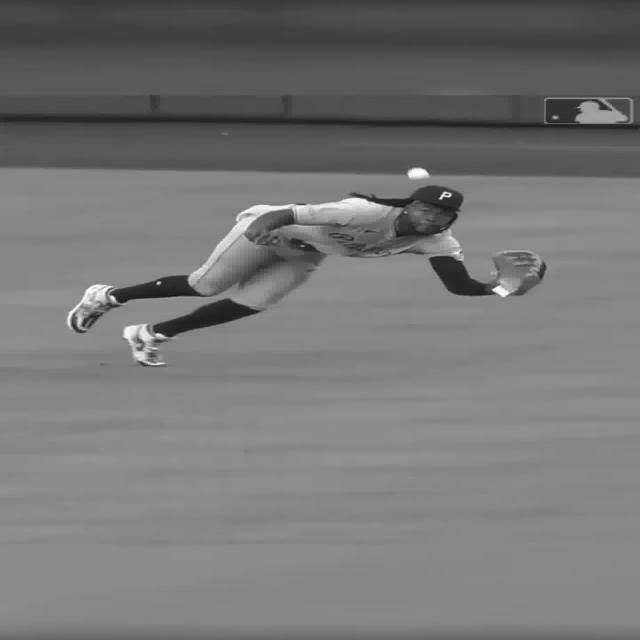baseball: (406, 168, 432, 179)
baseball_glove: (489, 250, 553, 295)
shoe: (63, 284, 119, 334), (125, 322, 177, 370)
